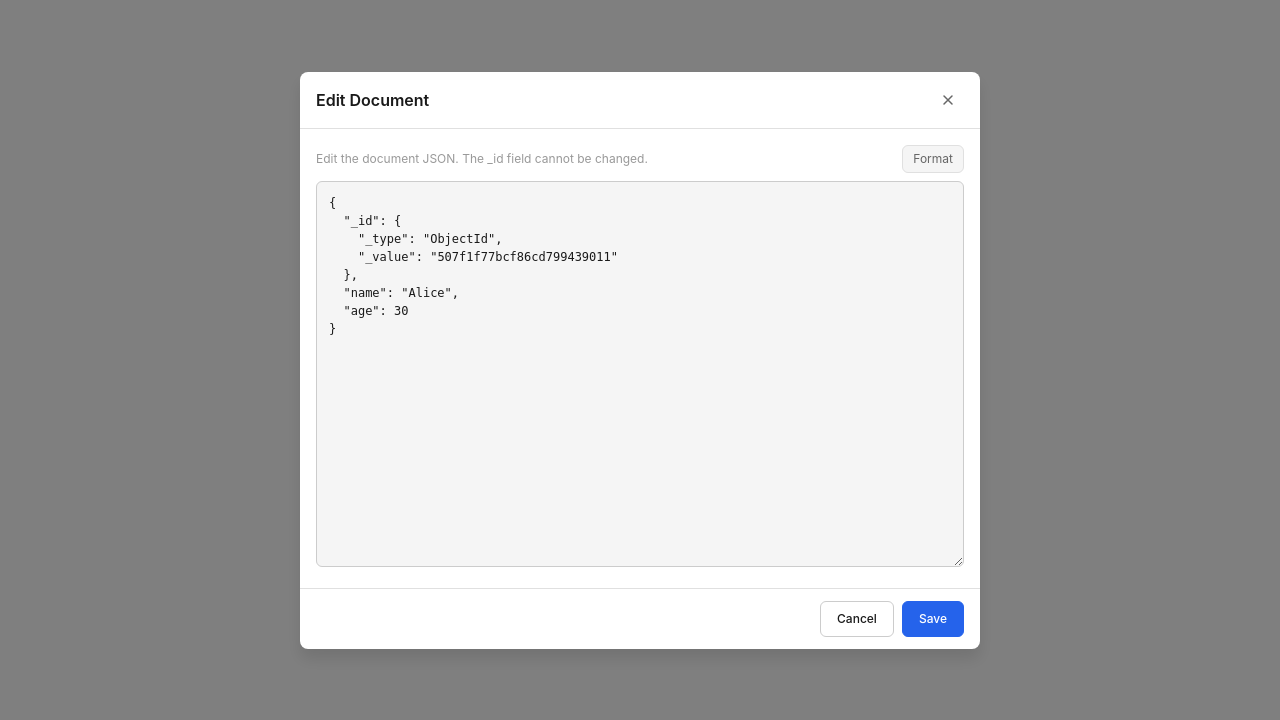
Test case: JsonEditorDialog › JSON validation › disables Save and shows error for non-object JSON (array)
Replace the text in the text box with "[1, 2, 3]": (640, 374) [316,180,964,566]
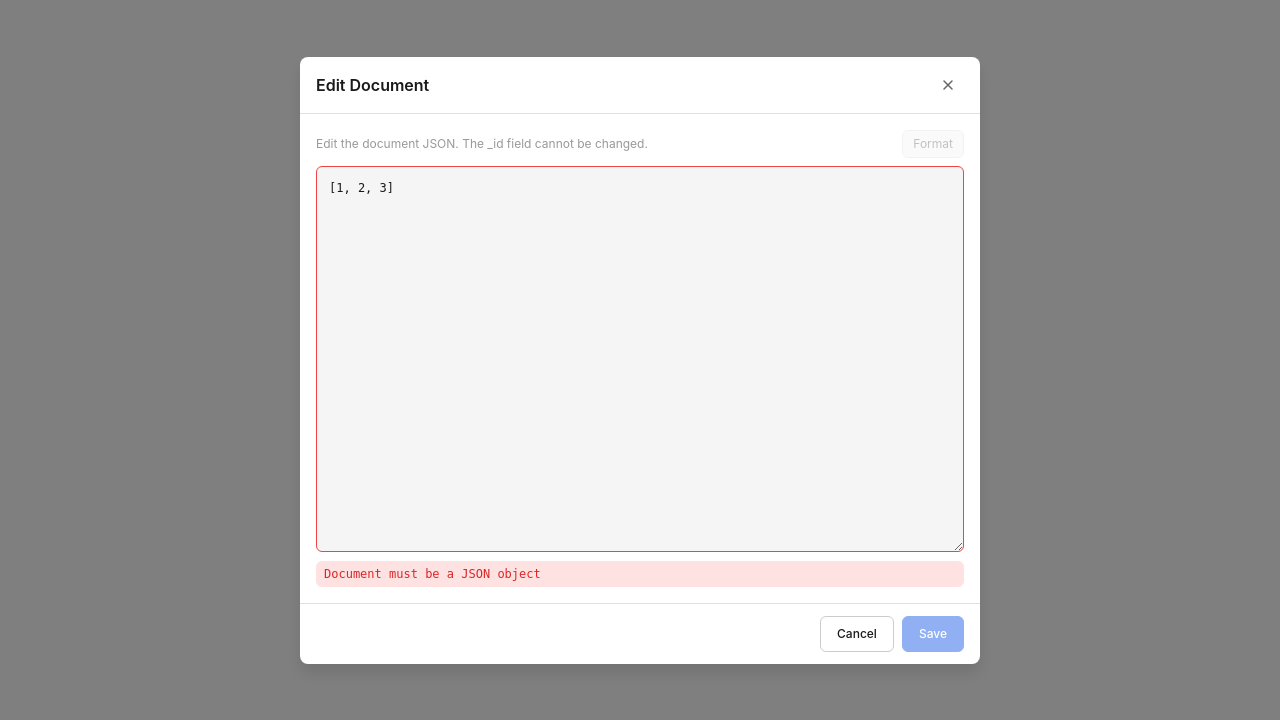
Check: the text "Document must be a JSON object" is shown, box [316,560,964,586]
Check: the text with test id "json-validation-error" reads "Document must be a JSON object", box [324,566,541,580]
Check: the button "Save" is disabled, box [902,616,964,652]
